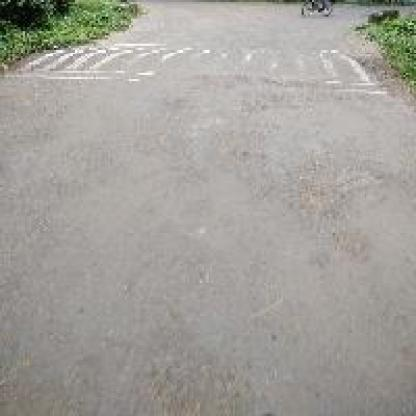Speed Bump: (0, 40, 393, 98)
